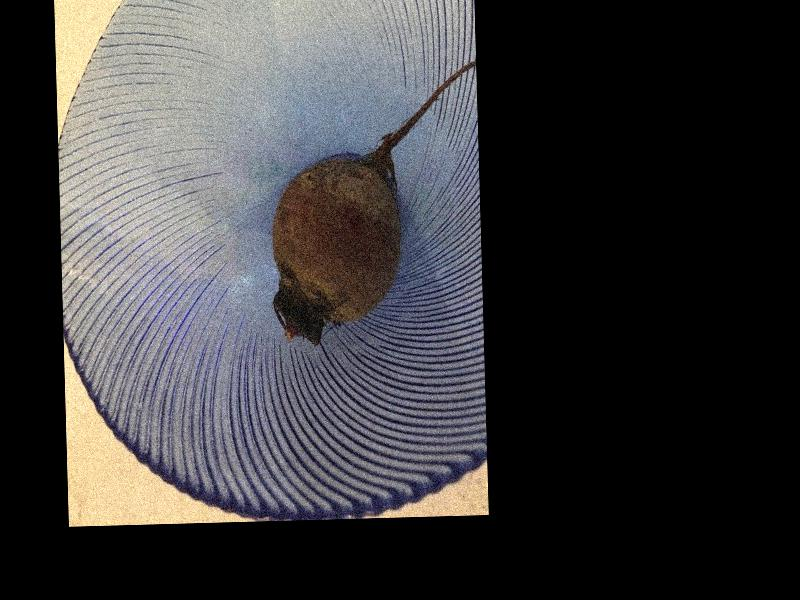Beet: (267, 62, 484, 345)
